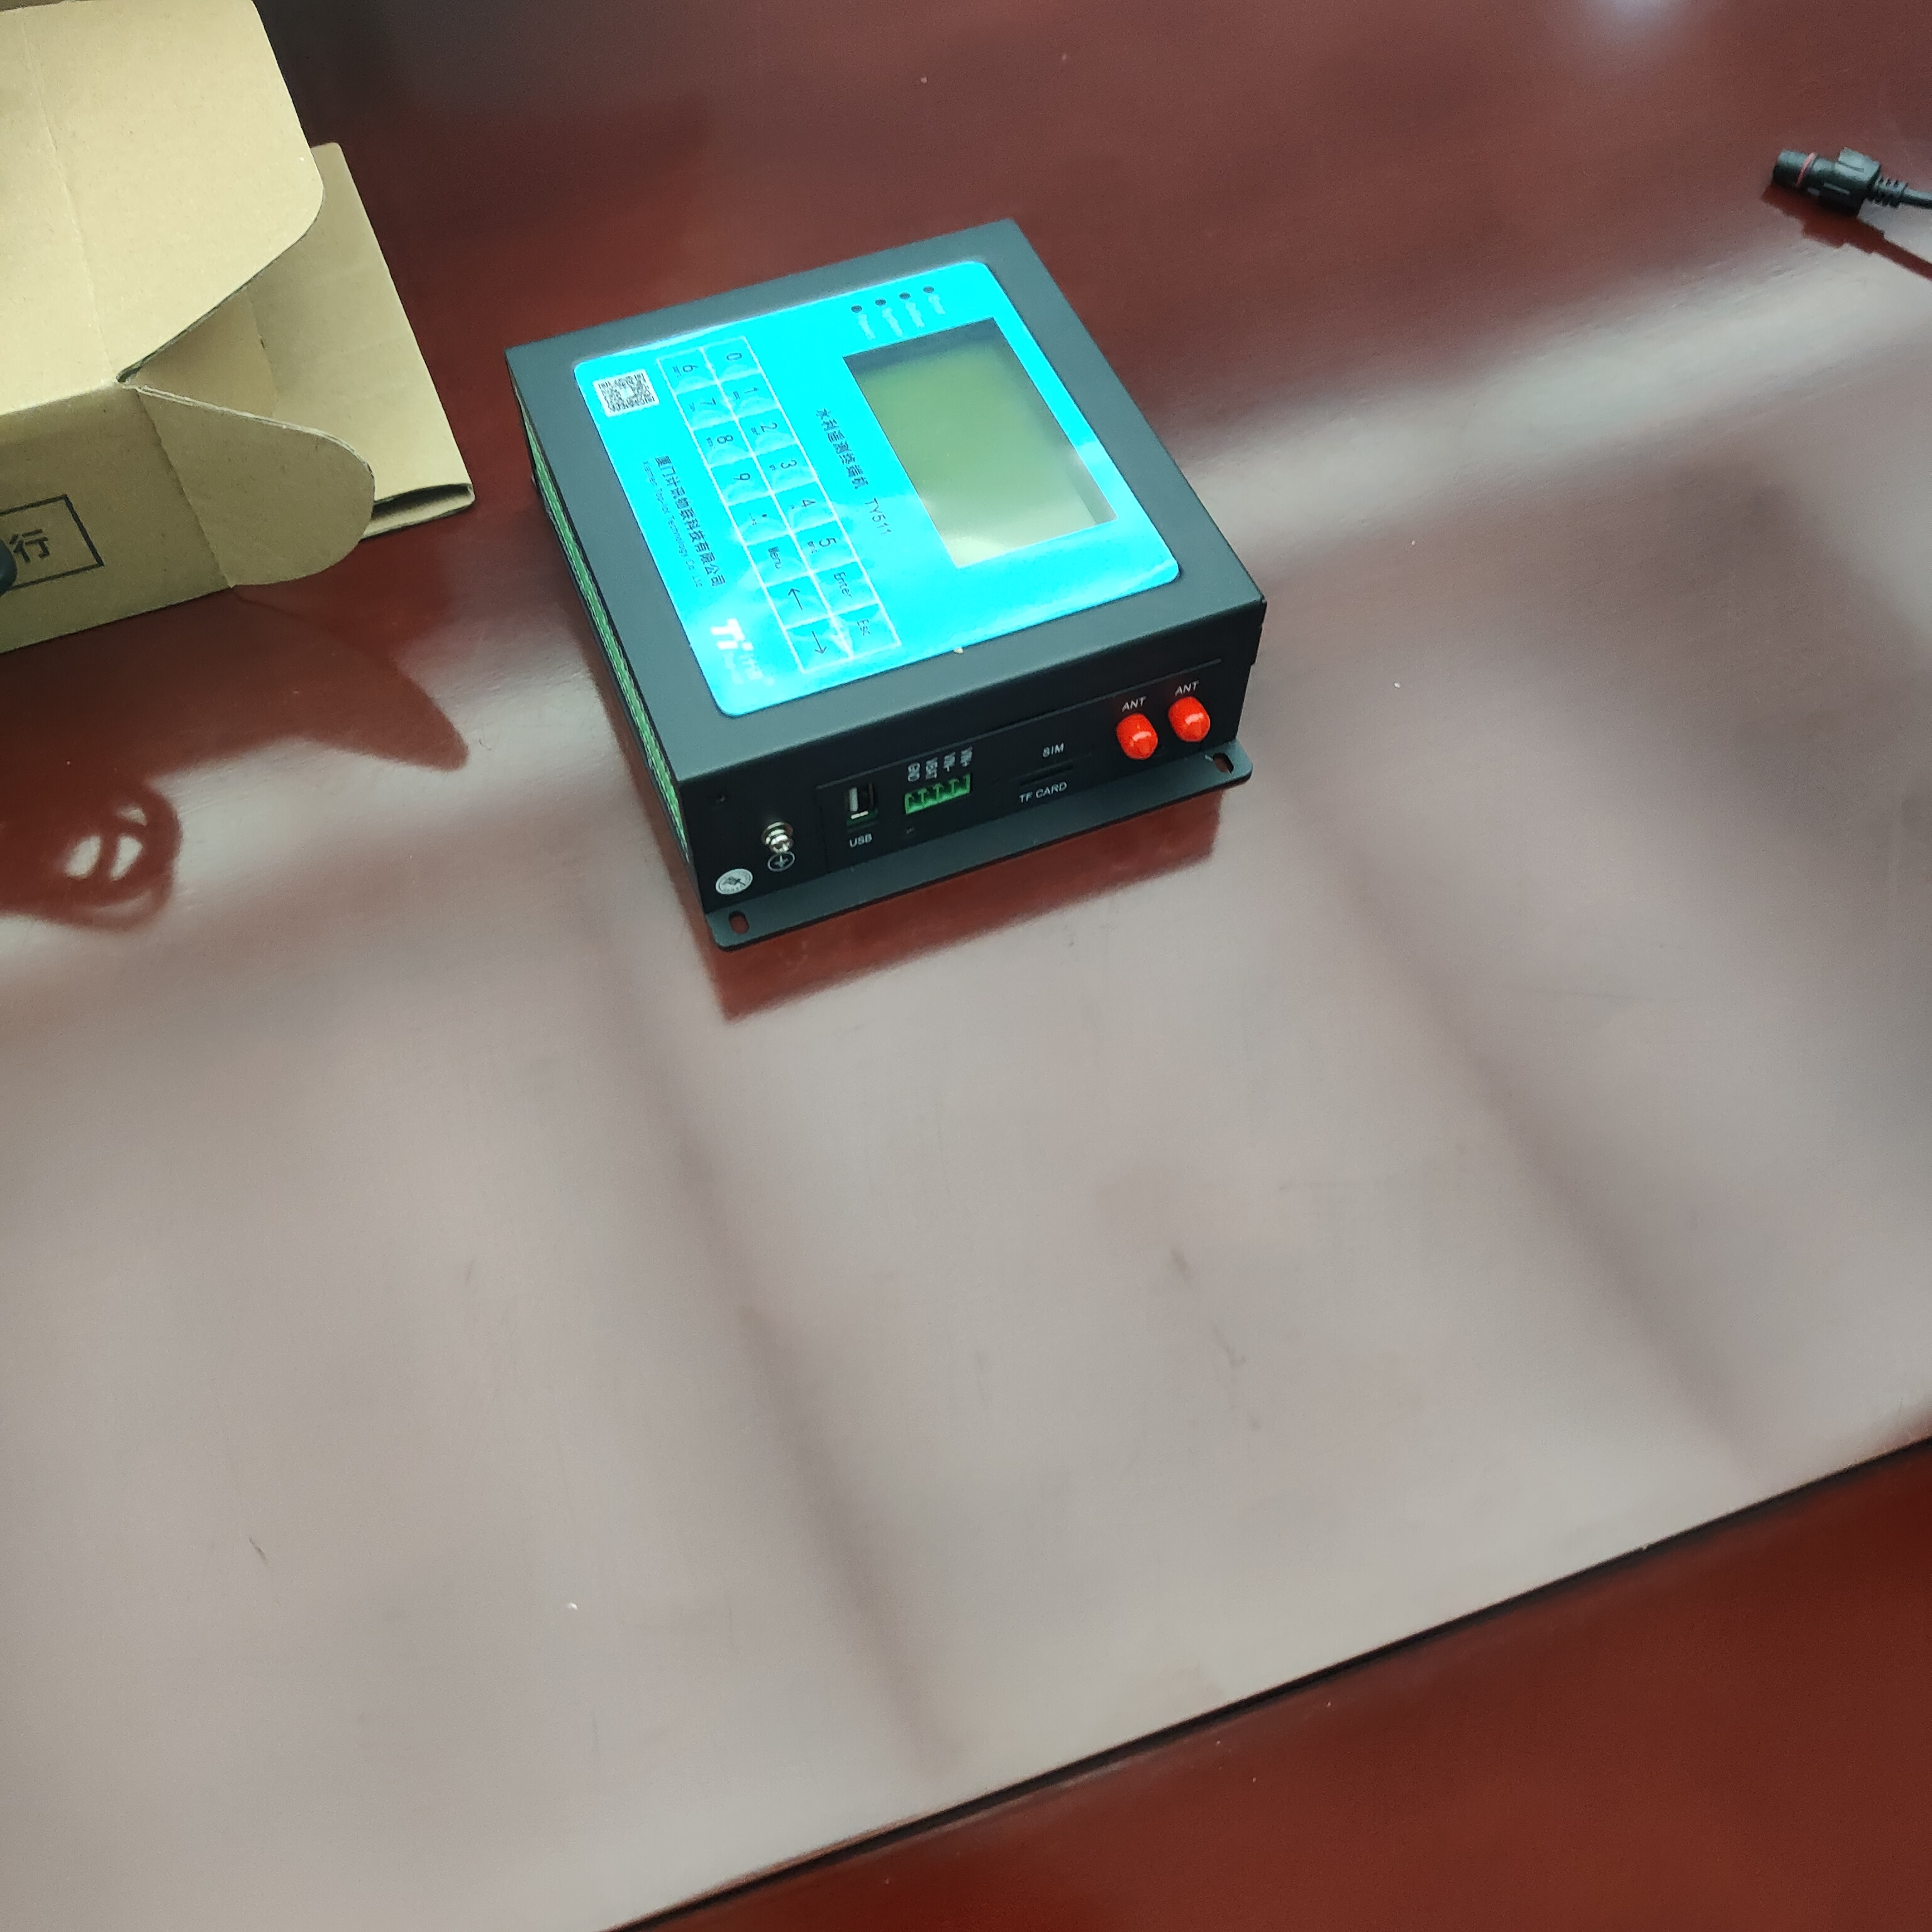slyczd: (510, 221, 1272, 966)
